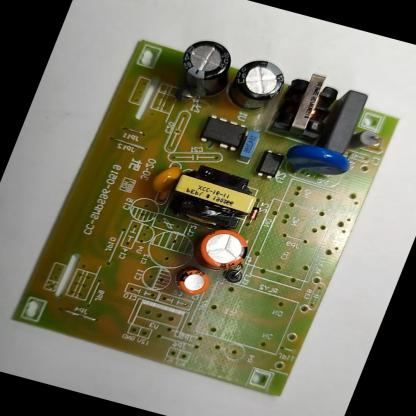Cap1: (190, 223, 254, 275)
Cap2: (172, 264, 213, 297)
Cap3: (219, 53, 291, 118)
Cap4: (171, 35, 242, 101)
MOSFET: (198, 114, 248, 153)
Mov: (277, 138, 356, 188)
Resistor: (346, 125, 382, 155)
Transformer: (164, 158, 262, 232), (268, 67, 345, 144)
